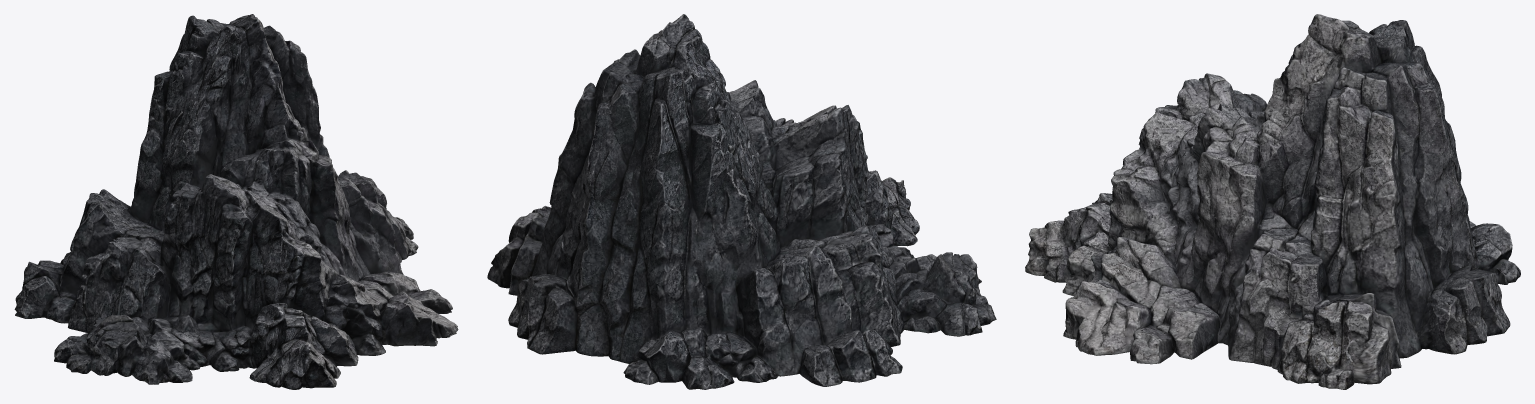
File: intro-rock.glb
The picture shows the model from 3 angles, left to right: view 1: azimuth 30°, elevation 25°; view 2: azimuth 150°, elevation 25°; view 3: azimuth 270°, elevation 25°; orthographic projection. The views are drawn at different scales.
Parts seen in each view (by area): view 1: intro-rock; view 2: intro-rock; view 3: intro-rock.
Boxes of the visible parts, x1=… form: intro-rock: x1=14, y1=14, x2=458, y2=389; intro-rock: x1=487, y1=14, x2=996, y2=389; intro-rock: x1=1025, y1=14, x2=1520, y2=389.
Size of the model in its own units: 0.9803 by 0.6039 by 0.9428.
Materials: 1 (1 with a texture image).
